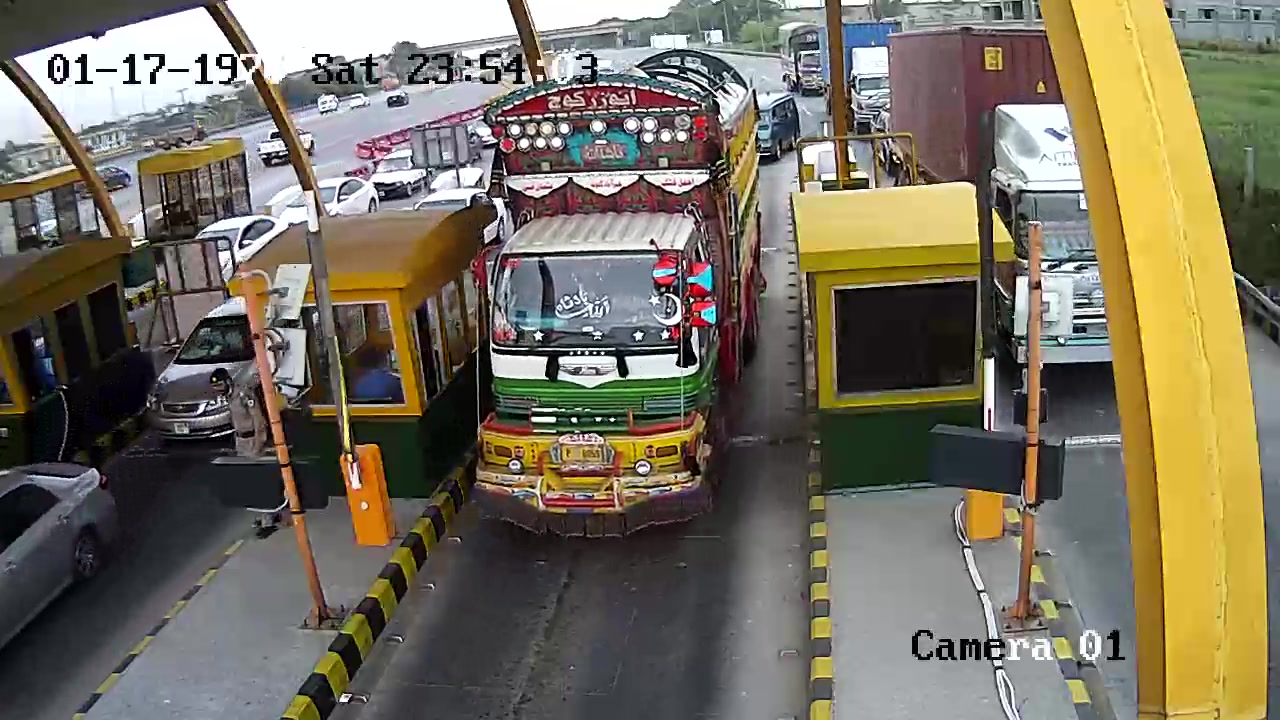F5: (459, 42, 789, 537)
